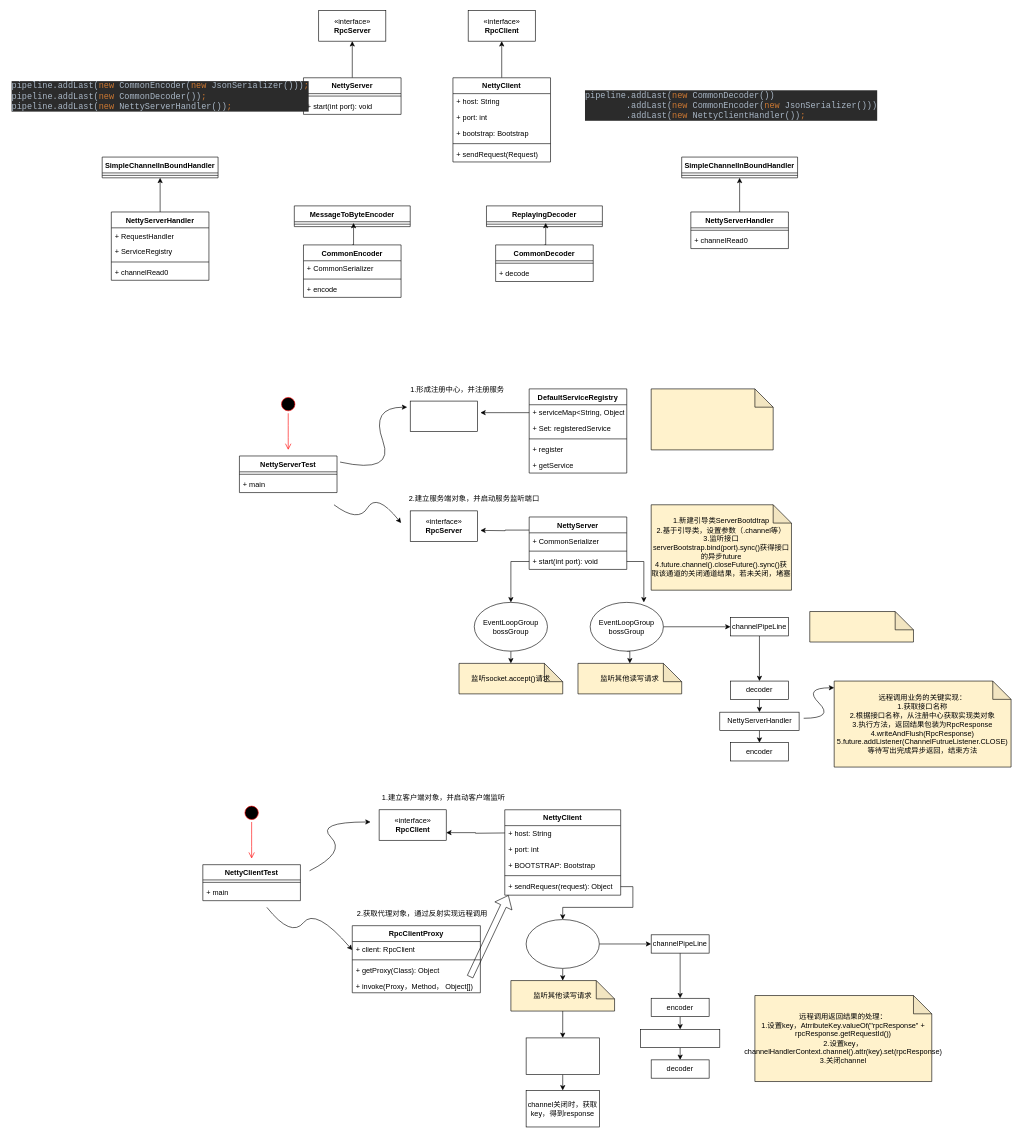
Image size: 1022x1138. Some labels were removed from this diagram. The centre of each missing label's shape, as x and y in pixels:
"EventLoopGroup workerGroup" belongs at point (562, 943).
"NettyClientHandler" belongs at point (680, 1038).
"«interface» ServiceRegistry" belongs at point (443, 416).
"定义handle顺序" belongs at point (861, 626).
"根据future.channel监听读写消息" belongs at point (562, 1056).
"维护一个ConcurrentHashMap记录已注册的服务，接口名为key" belongs at point (712, 419).
